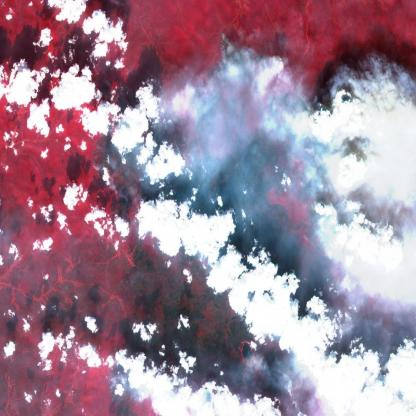fire: (76, 27, 380, 408)
